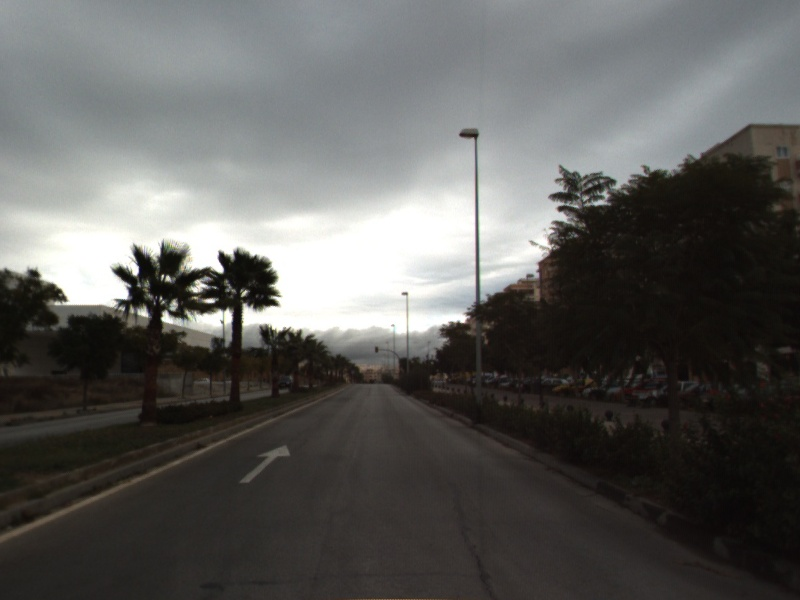STRAIGHT: (238, 443, 293, 485)
